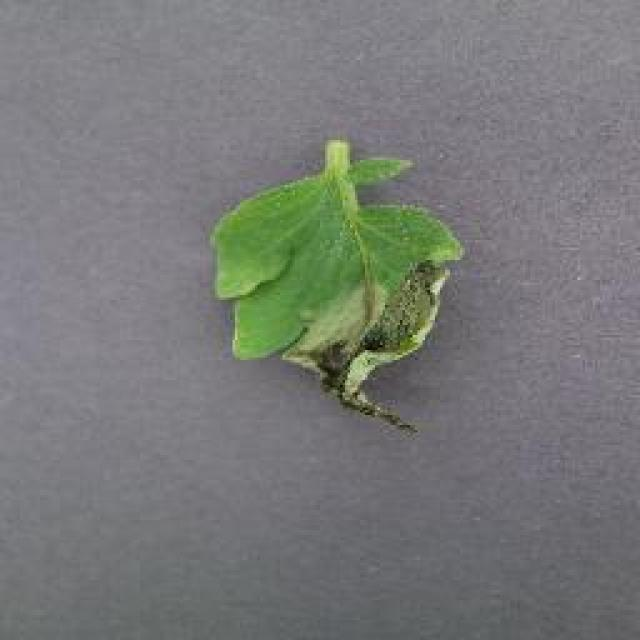Tomato late blight leaf: (218, 149, 460, 431)
